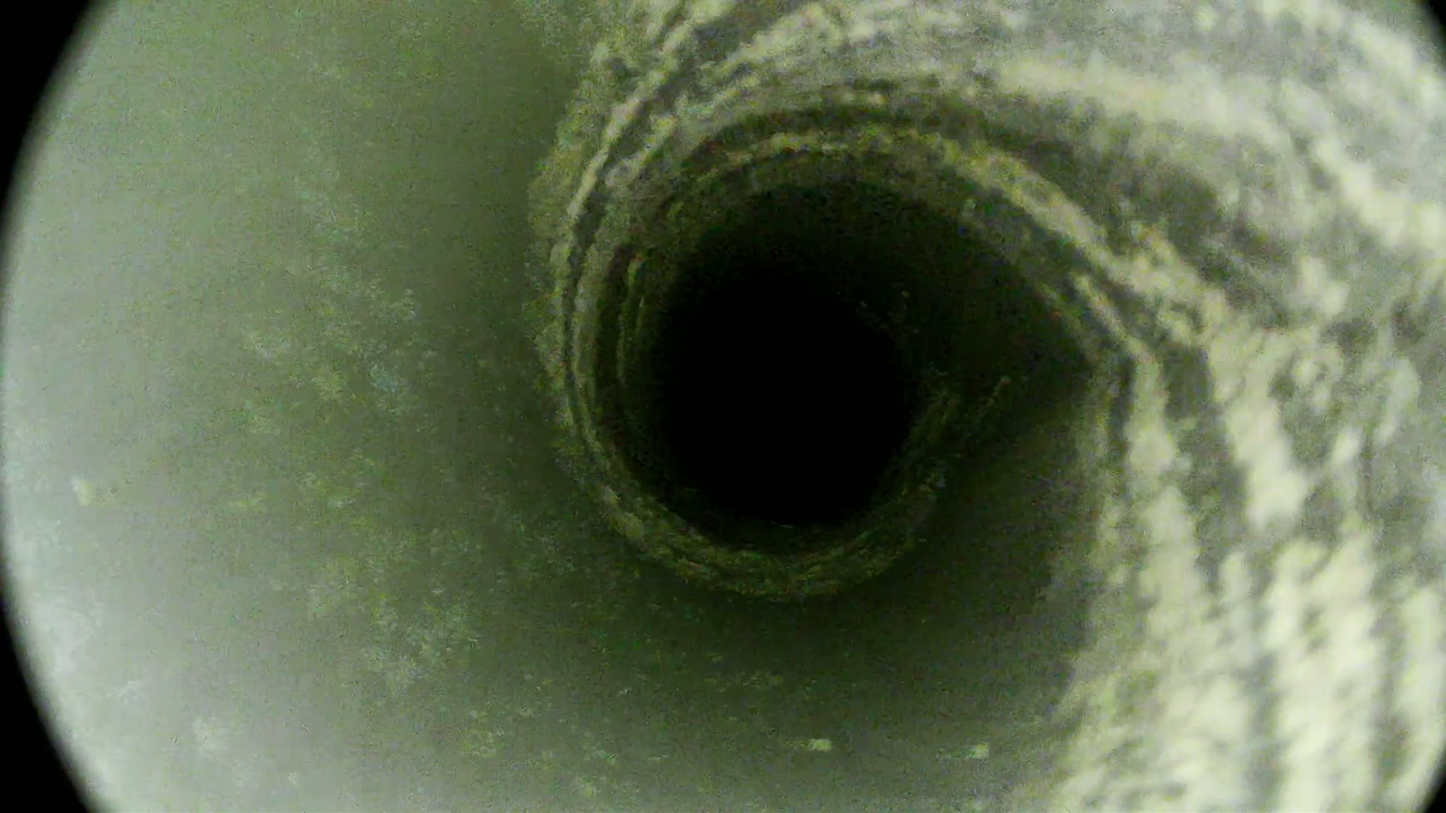hole: (674, 293, 904, 519)
